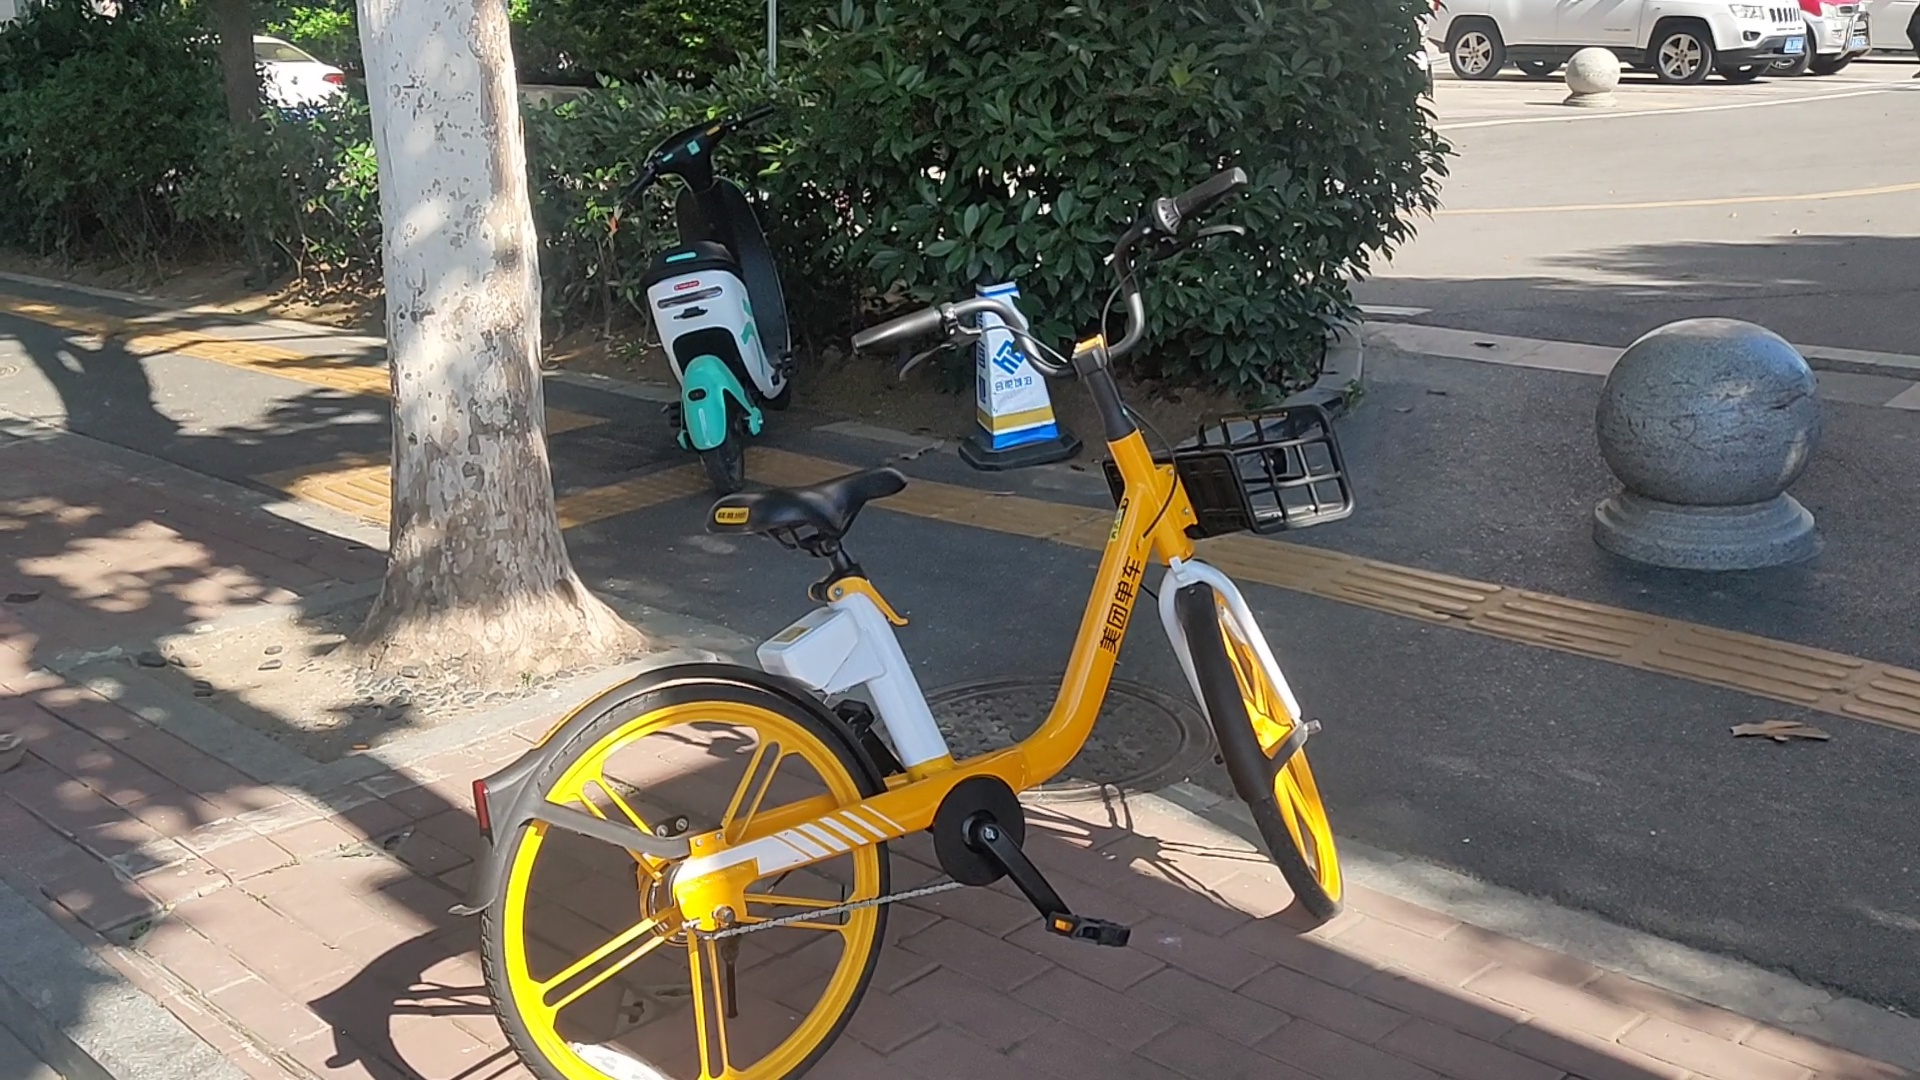non-vehicle: (501, 207, 1349, 1079), (615, 88, 816, 504)
